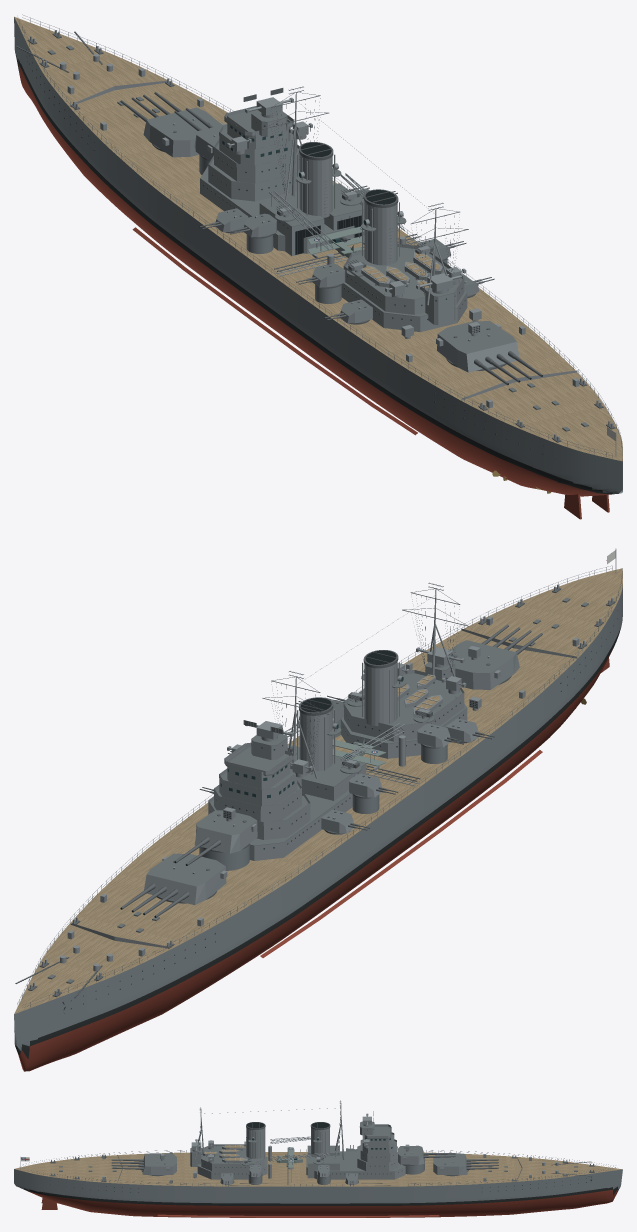
Rendered from king-george-v.glb.
The picture shows the model from 3 angles, top to bottom: view 1: azimuth 30°, elevation 25°; view 2: azimuth 150°, elevation 25°; view 3: azimuth 270°, elevation 25°; orthographic projection. The views are drawn at different scales.
Parts seen in each view (by area): view 1: KGV original section hull, after-funnel.mesh, boat-deck.mesh, main-y.yaw.mesh, forward-funnel.mesh, main-a.yaw.mesh, deck-rails.mesh, forward-shelter.mesh, tower-base.mesh, after-shelter.mesh, tower-middle.mesh, bilge-keel-1.mesh (+10 smaller); view 2: KGV original section hull, boat-deck.mesh, main-a.yaw.mesh, after-funnel.mesh, forward-funnel.mesh, main-y.yaw.mesh, forward-shelter.mesh, deck-rails.mesh, main-b.yaw.mesh, tower-lower-bridge.mesh, bilge-keel-1.mesh, hangar-port.mesh (+11 smaller); view 3: KGV original section hull, forward-shelter.mesh, boat-deck.mesh, main-y.yaw.mesh, main-a.yaw.mesh, after-funnel.mesh, deck-rails.mesh, forward-funnel.mesh, bilge-keel--1.mesh, after-shelter.mesh, main-b.yaw.mesh, tower-base.mesh (+13 smaller).
Boxes of the visible parts, <box> form: KGV original section hull: <box>14,16,622,496</box>; after-funnel.mesh: <box>295,189,399,265</box>; boat-deck.mesh: <box>343,243,464,314</box>; main-y.yaw.mesh: <box>436,321,519,372</box>; forward-funnel.mesh: <box>297,142,335,217</box>; main-a.yaw.mesh: <box>143,107,224,157</box>; deck-rails.mesh: <box>17,14,622,458</box>; forward-shelter.mesh: <box>200,166,354,253</box>; tower-base.mesh: <box>208,155,299,201</box>; after-shelter.mesh: <box>341,282,467,332</box>; tower-middle.mesh: <box>214,139,299,183</box>; bilge-keel-1.mesh: <box>132,227,417,435</box>; KGV original section hull: <box>14,568,622,1071</box>; boat-deck.mesh: <box>343,670,464,741</box>; main-a.yaw.mesh: <box>144,853,227,905</box>; after-funnel.mesh: <box>362,650,399,726</box>; forward-funnel.mesh: <box>297,697,335,773</box>; main-y.yaw.mesh: <box>451,640,519,689</box>; forward-shelter.mesh: <box>249,784,352,860</box>; deck-rails.mesh: <box>17,565,622,1007</box>; main-b.yaw.mesh: <box>194,810,257,853</box>; tower-lower-bridge.mesh: <box>219,765,297,806</box>; bilge-keel-1.mesh: <box>260,750,542,957</box>; hangar-port.mesh: <box>301,755,366,800</box>; KGV original section hull: <box>14,1152,622,1217</box>; forward-shelter.mesh: <box>306,1151,405,1179</box>; boat-deck.mesh: <box>201,1144,264,1171</box>; main-y.yaw.mesh: <box>142,1153,176,1175</box>; main-a.yaw.mesh: <box>433,1153,467,1175</box>; after-funnel.mesh: <box>246,1122,265,1158</box>; deck-rails.mesh: <box>23,1149,615,1185</box>; forward-funnel.mesh: <box>310,1122,330,1157</box>; bilge-keel--1.mesh: <box>157,1214,439,1217</box>; after-shelter.mesh: <box>197,1156,267,1179</box>; main-b.yaw.mesh: <box>398,1145,424,1164</box>; tower-base.mesh: <box>357,1145,397,1171</box>.
Size of the model in its own units: 36.07 by 43.33 by 227.
Materials: 15 (1 with a texture image).
